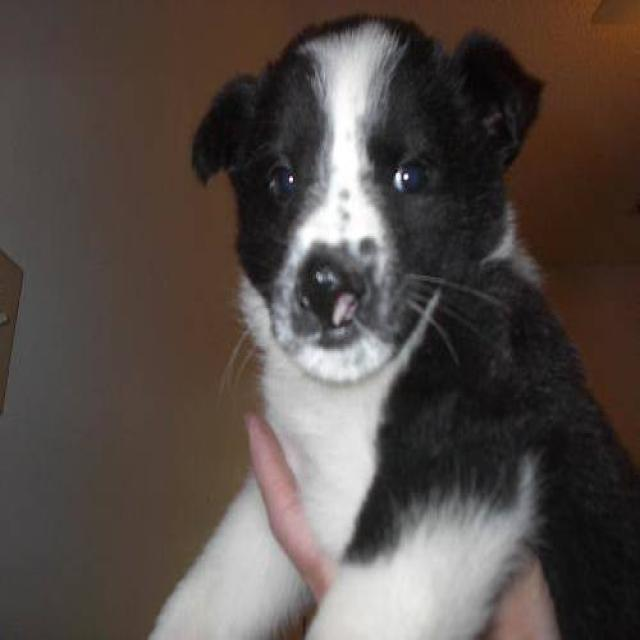dog: (142, 11, 639, 638)
